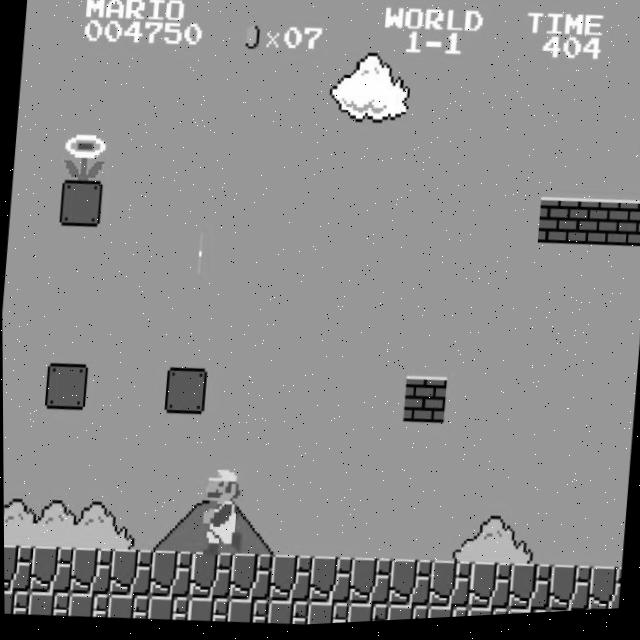1- brick_block: (401, 378, 447, 429), (536, 201, 581, 251), (576, 203, 621, 253), (616, 206, 640, 254)
17- undestructible_block: (107, 548, 153, 599), (147, 550, 193, 601), (187, 552, 233, 603), (386, 561, 432, 612), (426, 563, 472, 614), (466, 565, 512, 616), (227, 554, 273, 604), (545, 568, 591, 618), (28, 544, 73, 595), (68, 546, 113, 597), (267, 555, 312, 606), (307, 557, 352, 608), (347, 559, 392, 610), (506, 567, 551, 618), (586, 571, 621, 616), (3, 542, 32, 592), (26, 590, 69, 618), (146, 595, 189, 623), (186, 597, 229, 625), (226, 599, 269, 627), (265, 601, 308, 629), (66, 592, 109, 619), (106, 594, 149, 621), (305, 603, 348, 628), (345, 604, 388, 626), (385, 607, 428, 624), (3, 588, 29, 615), (425, 608, 468, 623), (465, 610, 508, 621), (504, 612, 547, 620)
3- empty_block: (162, 367, 207, 418), (58, 179, 103, 229), (43, 362, 88, 412)
4- fire_mario: (195, 461, 247, 560)
6- flower: (59, 129, 107, 184)
